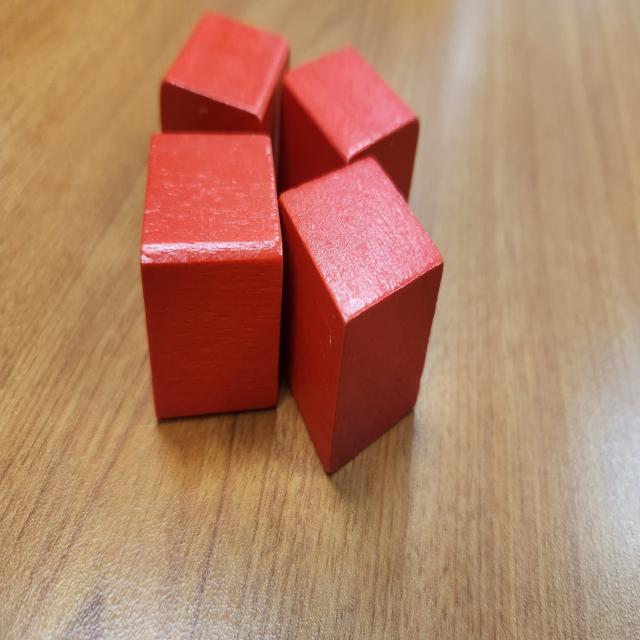red: (278, 155, 444, 478), (138, 128, 288, 426), (277, 43, 419, 206), (157, 11, 290, 136)
